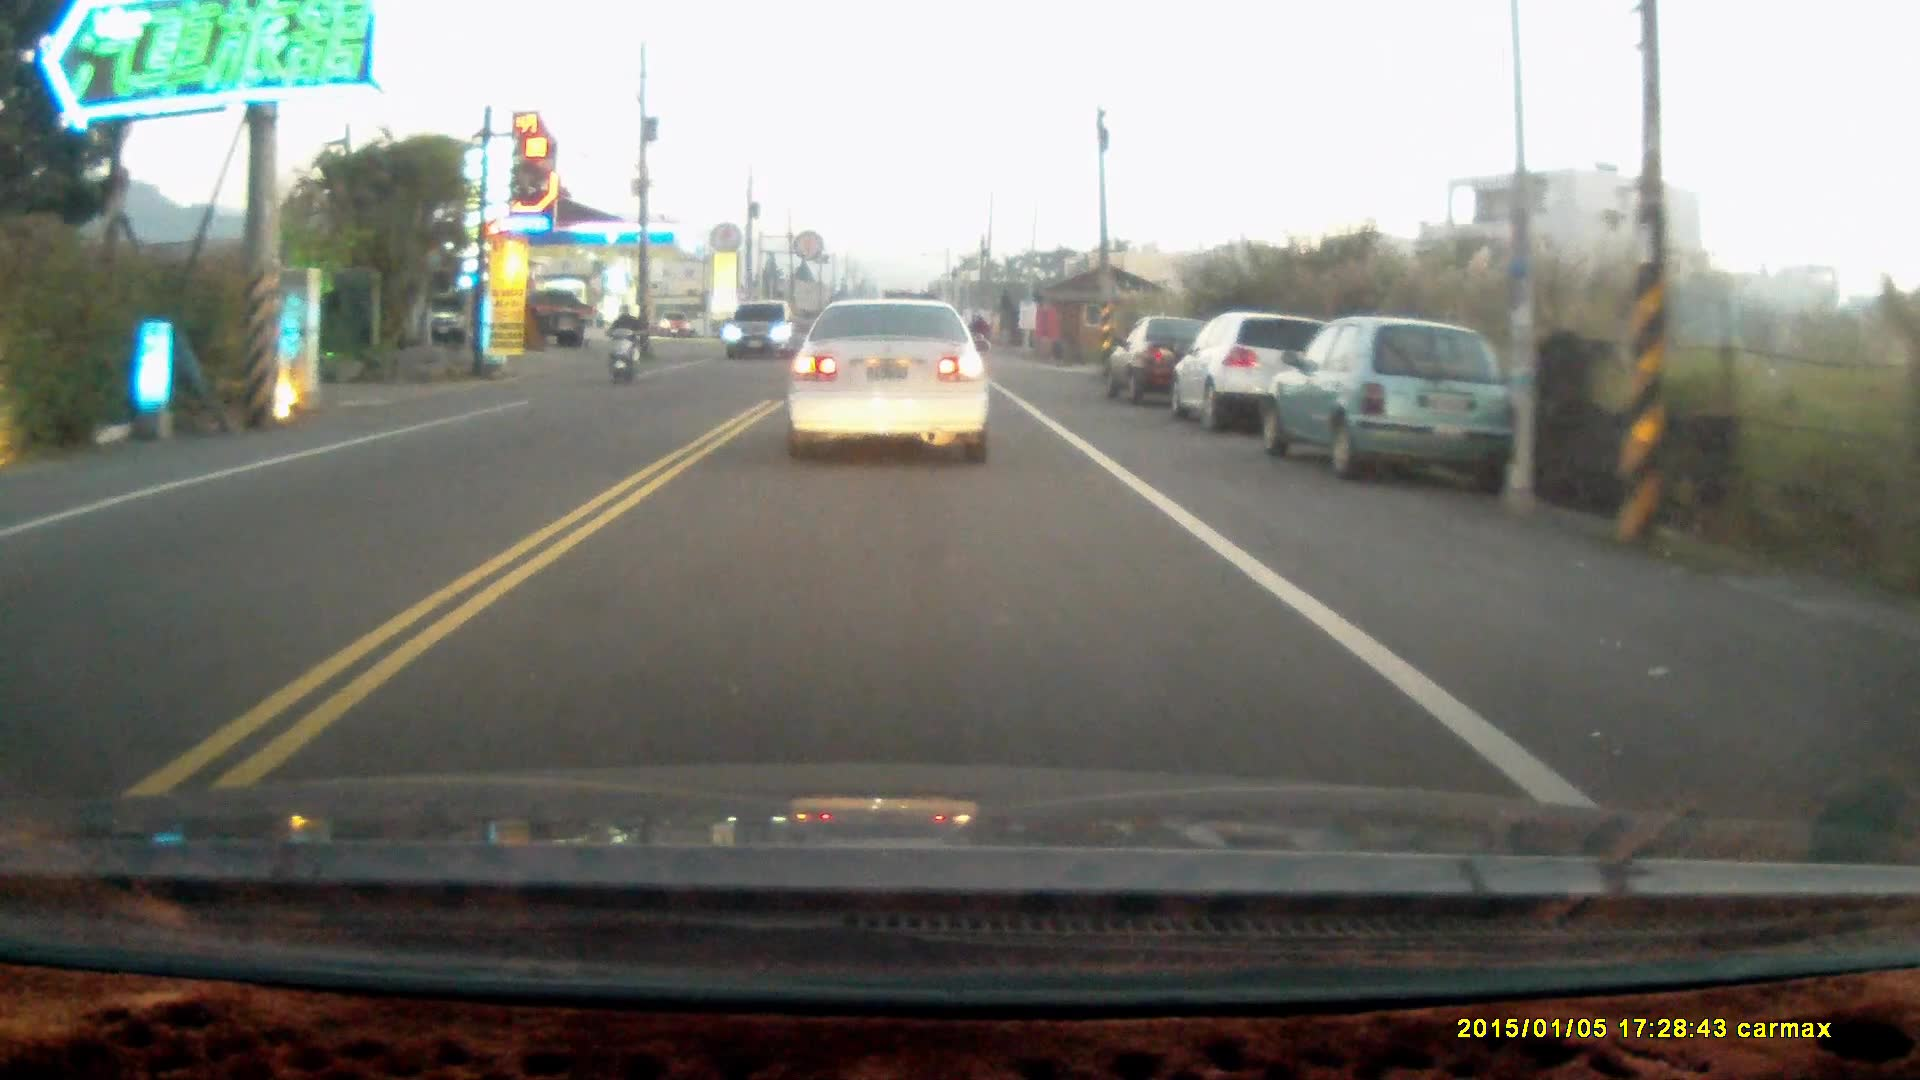rider: (605, 303, 642, 382)
vehicle: (1256, 316, 1516, 483), (787, 294, 998, 467), (1175, 312, 1335, 435), (1110, 315, 1207, 405), (728, 303, 800, 362)
